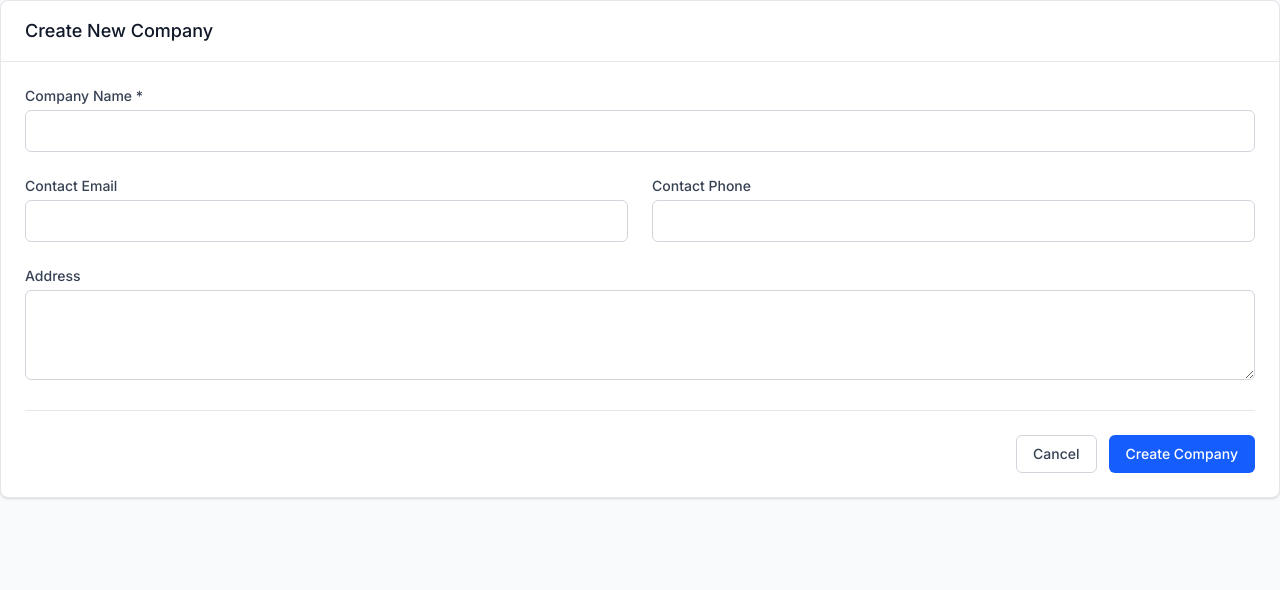
Test case: CompanyForm › shows error message on API failure
# Fill in required field
Type "Test Company" into the field labelled "Company Name *" at (640, 131), box [25,110,1255,152]
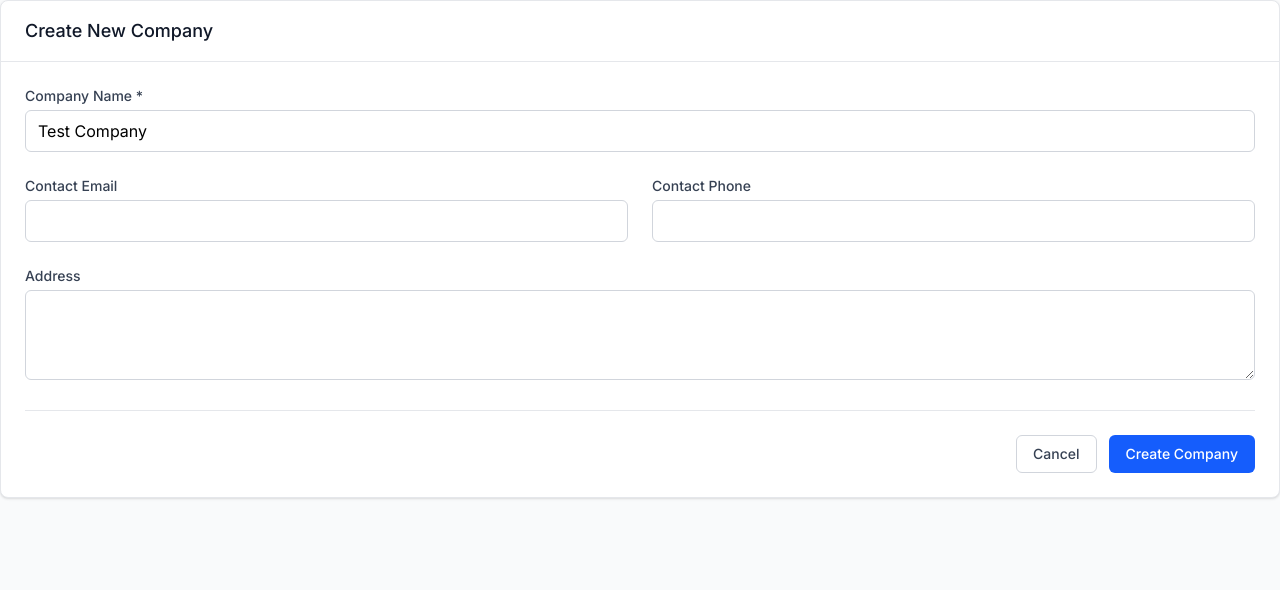
Click the button "Create Company" at (1182, 454), box [1108,435,1255,473]
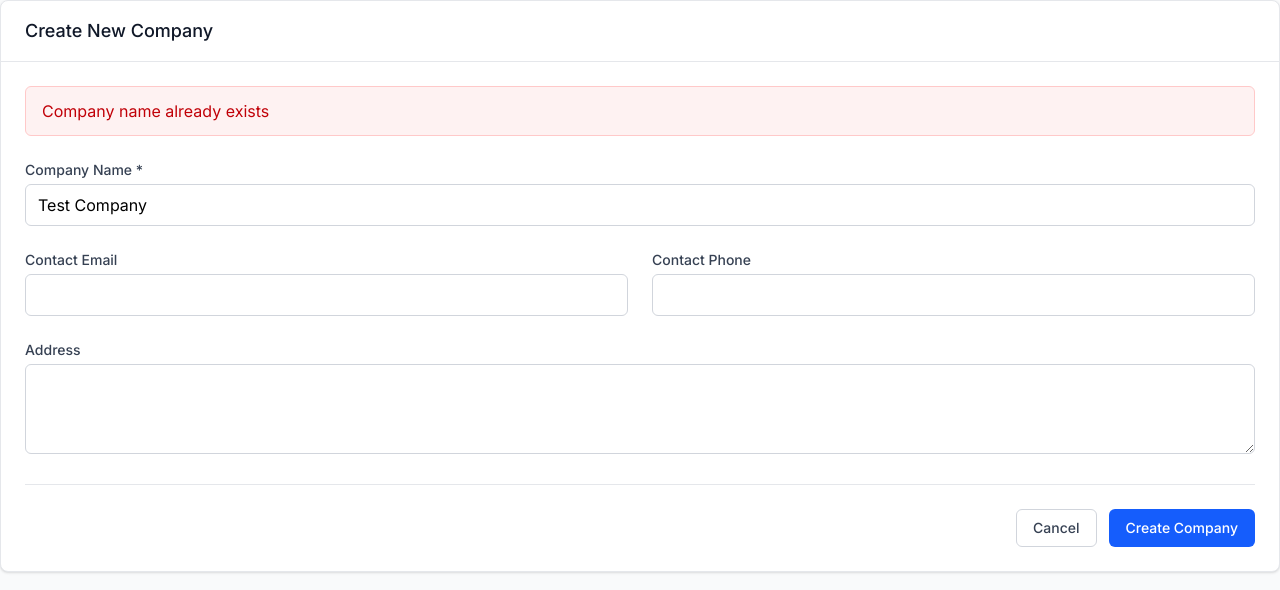
Check: the text "Company name already exists" is shown, box [25,86,1255,136]
